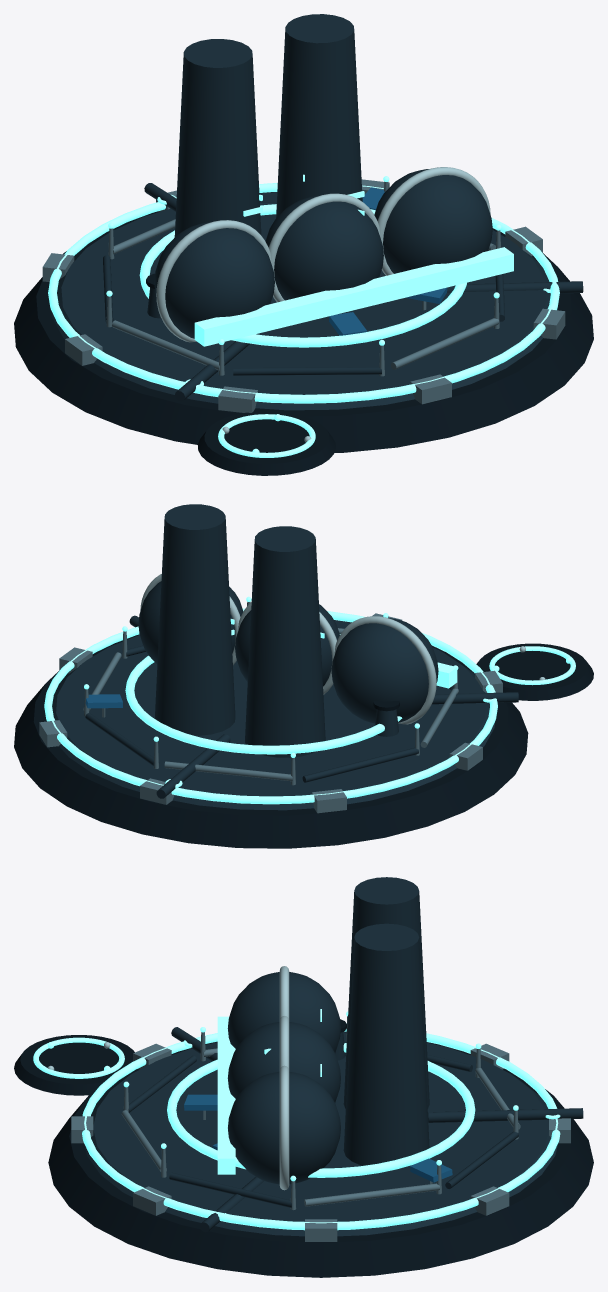
Rendered from deuteriumSynthesizer-stage1.glb.
3 views of the same model, one above another, from view 1: azimuth 30°, elevation 25°; view 2: azimuth 150°, elevation 25°; view 3: azimuth 270°, elevation 25° (orthographic). The views are drawn at different scales.
Visible parts, largest first — view 1: upper-deck, cryogenic-tower (×2), pressure-vessel (×3), armored-foundation, fuel-conduit, perimeter-light, landing-pad, vessel-brace (×3), detail, landing-guidance-light, service-catwalk-2, utility-conduit-0 (+8 smaller); view 2: cryogenic-tower (×2), upper-deck, armored-foundation, pressure-vessel (×3), perimeter-light, landing-pad, detail, vessel-brace (×3), landing-guidance-light, service-catwalk-4, service-catwalk-5, utility-conduit-2 (+11 smaller); view 3: upper-deck, armored-foundation, cryogenic-tower (×2), pressure-vessel (×3), perimeter-light, landing-pad, detail, vessel-brace (×3), fuel-conduit, utility-conduit-2, landing-guidance-light, service-catwalk-7 (+10 smaller).
Part boxes in pixels (<box>): upper-deck: <box>51,192,557,410</box>; cryogenic-tower (×2): <box>174,14,362,236</box>; pressure-vessel (×3): <box>154,169,492,338</box>; armored-foundation: <box>14,192,593,452</box>; fuel-conduit: <box>194,247,513,346</box>; perimeter-light: <box>48,183,559,403</box>; landing-pad: <box>198,411,335,475</box>; vessel-brace (×3): <box>156,167,490,342</box>; detail: <box>139,204,466,347</box>; landing-guidance-light: <box>218,414,315,457</box>; service-catwalk-2: <box>233,367,381,375</box>; utility-conduit-0: <box>447,281,583,293</box>; cryogenic-tower (×2): <box>154,504,325,757</box>; upper-deck: <box>46,620,494,810</box>; armored-foundation: <box>14,620,528,848</box>; pressure-vessel (×3): <box>138,581,438,723</box>; perimeter-light: <box>44,608,497,804</box>; landing-pad: <box>476,643,593,700</box>; detail: <box>125,634,402,754</box>; vessel-brace (×3): <box>140,574,436,724</box>; landing-guidance-light: <box>489,646,575,685</box>; service-catwalk-4: <box>302,747,418,782</box>; service-catwalk-5: <box>164,761,292,781</box>; utility-conduit-2: <box>156,734,230,798</box>; upper-deck: <box>84,1032,557,1236</box>; armored-foundation: <box>48,1031,593,1277</box>; cryogenic-tower (×2): <box>343,877,429,1166</box>; pressure-vessel (×3): <box>227,972,340,1184</box>; perimeter-light: <box>82,1023,560,1230</box>; landing-pad: <box>14,1035,134,1095</box>; detail: <box>167,1043,475,1177</box>; vessel-brace (×3): <box>279,966,289,1190</box>; fuel-conduit: <box>217,1016,235,1174</box>; utility-conduit-2: <box>428,1108,583,1122</box>; landing-guidance-light: <box>33,1037,124,1078</box>; service-catwalk-7: <box>304,1183,440,1206</box>.
Size of the model in its own units: 8.53 by 4.28 by 9.06.
